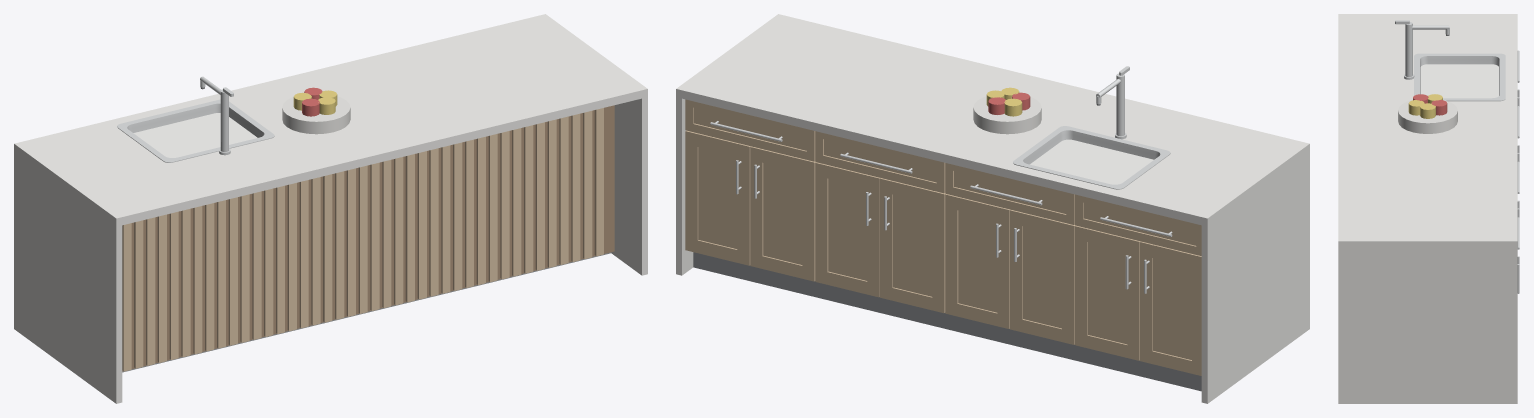
3 views of the same model, side by side, from view 1: azimuth 30°, elevation 25°; view 2: azimuth 150°, elevation 25°; view 3: azimuth 270°, elevation 25° (orthographic). The views are drawn at different scales.
Visible parts, largest first — view 1: Đảo bếp Dài=2700; Rộng=900; view 2: Đảo bếp Dài=2700; Rộng=900; view 3: Đảo bếp Dài=2700; Rộng=900.
Boxes of the visible parts, x1,y1,x2,y2 form: Đảo bếp Dài=2700; Rộng=900: [14, 14, 647, 403]; Đảo bếp Dài=2700; Rộng=900: [676, 14, 1309, 403]; Đảo bếp Dài=2700; Rộng=900: [1338, 14, 1519, 403].
Size of the model in its own units: 2.7 by 1.21 by 0.91.
